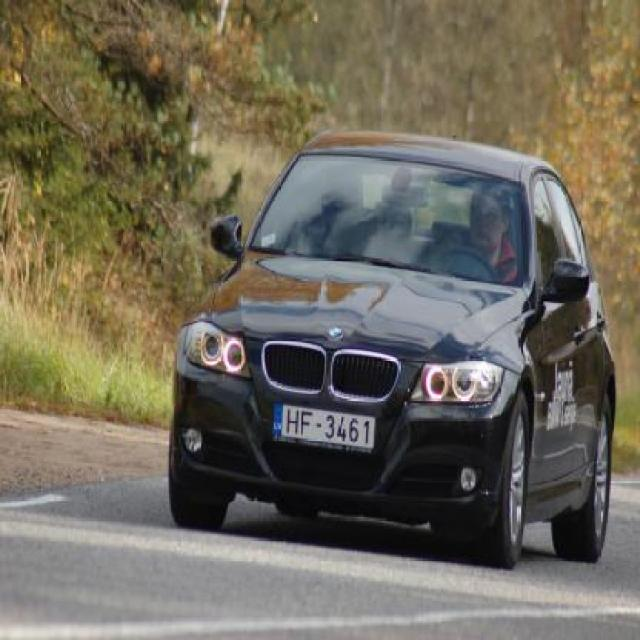License-Plates: (274, 401, 376, 455)
